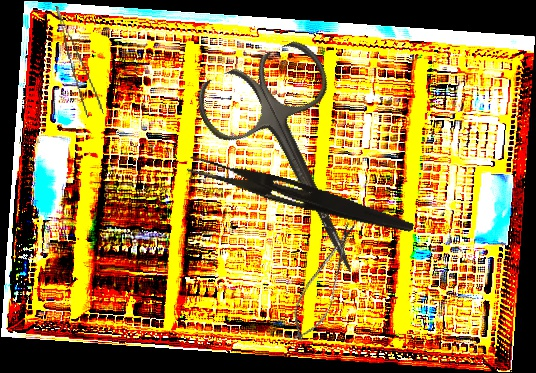Dressing Forceps: (184, 154, 418, 237)
Iris Scissors: (188, 33, 409, 302)
Micro Scissor: (282, 215, 366, 349)
Tissue Forceps: (55, 0, 104, 120)
